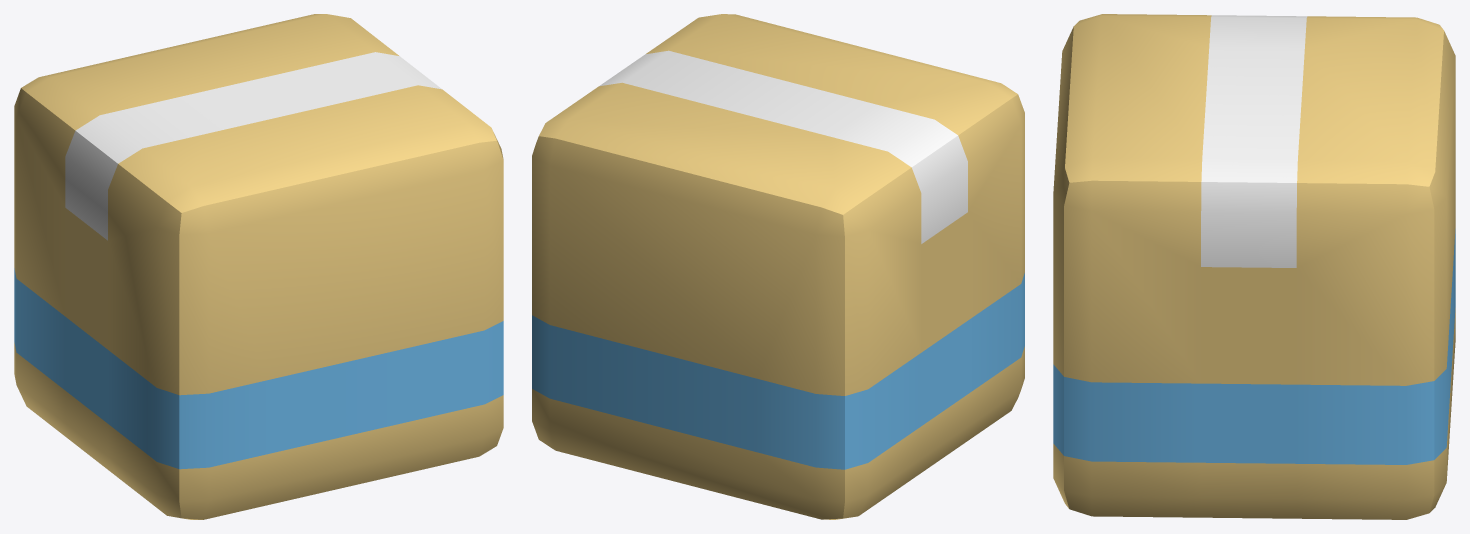
The model's file is Props_Box_Blue_01.fbx.
3 views of the same model, side by side, from view 1: azimuth 30°, elevation 25°; view 2: azimuth 150°, elevation 25°; view 3: azimuth 270°, elevation 25° (orthographic). The views are drawn at different scales.
Visible parts, largest first — view 1: Props_Box_Blue_01; view 2: Props_Box_Blue_01; view 3: Props_Box_Blue_01.
Boxes of the visible parts, bbox=[...] form: Props_Box_Blue_01: bbox=[14, 14, 503, 519]; Props_Box_Blue_01: bbox=[532, 14, 1024, 519]; Props_Box_Blue_01: bbox=[1053, 14, 1455, 519].
Bounding box in the file's own units: 56.84 × 52.32 × 53.48.
